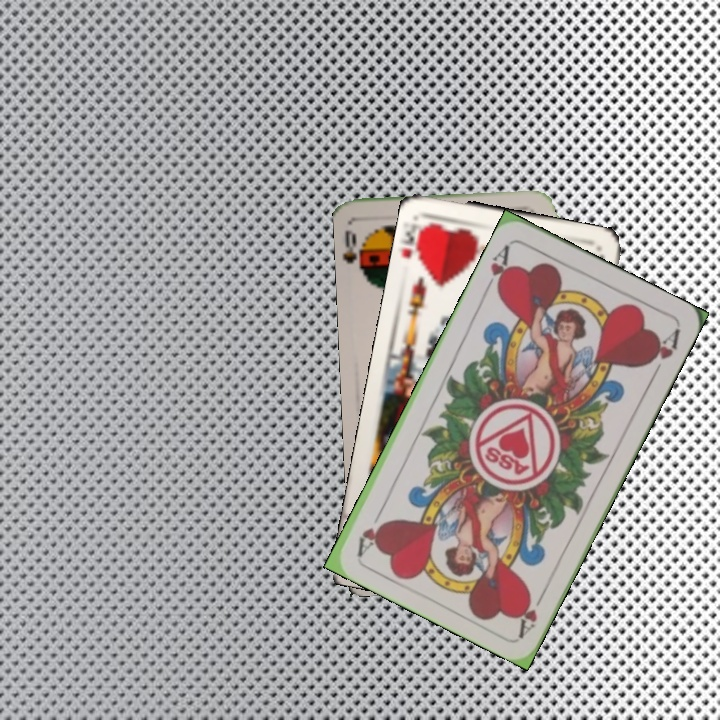HA: (515, 583, 550, 638), (480, 240, 514, 296)
HK: (398, 219, 431, 269)
SO: (340, 226, 369, 279)
